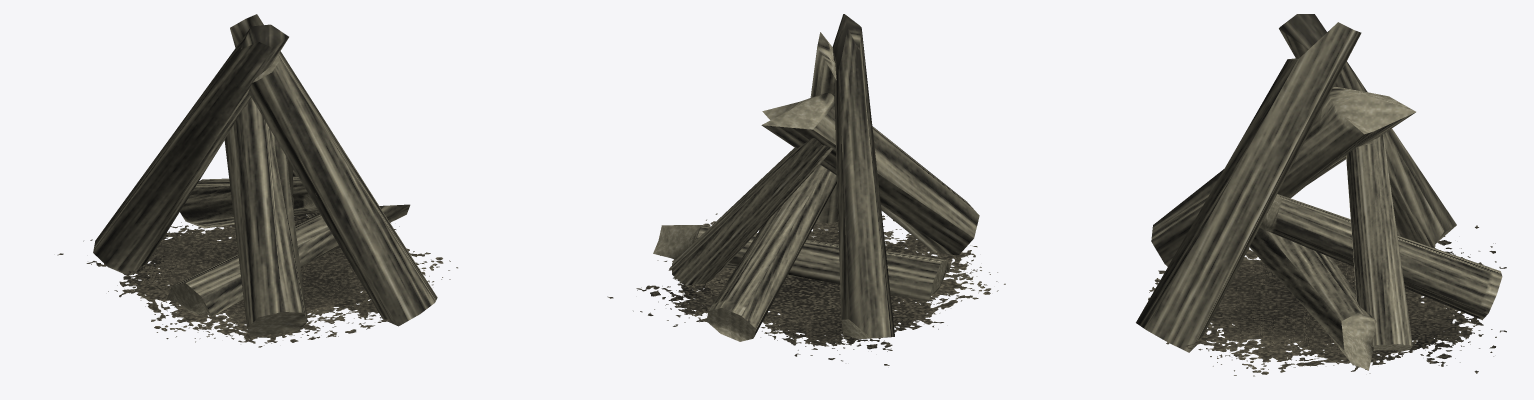
File: Fire_Pit.obj
3 views of the same model, side by side, from view 1: azimuth 30°, elevation 25°; view 2: azimuth 150°, elevation 25°; view 3: azimuth 270°, elevation 25° (orthographic). The views are drawn at different scales.
Parts seen in each view (by area): view 1: Skeleton; view 2: Skeleton; view 3: Skeleton.
Boxes of the visible parts, bbox=[...] form: Skeleton: bbox=[57, 14, 457, 347]; Skeleton: bbox=[607, 14, 1005, 365]; Skeleton: bbox=[1136, 14, 1506, 376].
Bounding box in the file's own units: 2.97 × 2.33 × 2.97.
